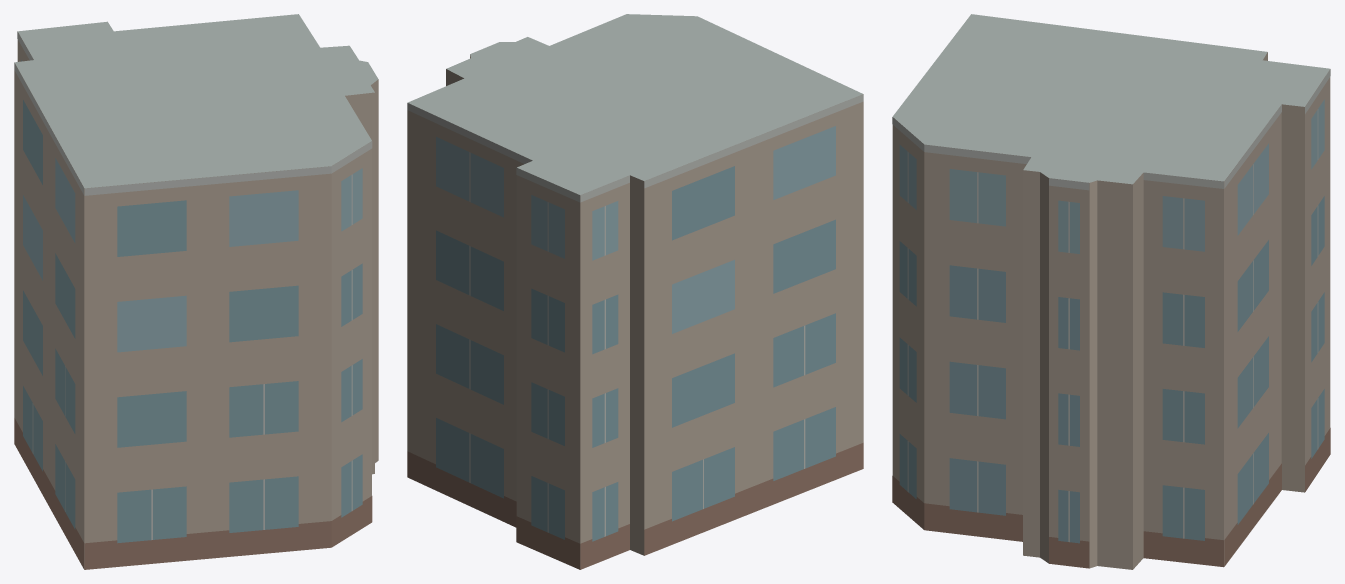
Rendered from survey-upis-33006650.glb.
3 renders of one model, left to right at view 1: azimuth 30°, elevation 25°; view 2: azimuth 150°, elevation 25°; view 3: azimuth 270°, elevation 25°, orthographic. The views are drawn at different scales.
Parts seen in each view (by area): view 1: survey-upis-33006650.tmp; view 2: survey-upis-33006650.tmp; view 3: survey-upis-33006650.tmp.
Boxes of the visible parts, x1=… form: survey-upis-33006650.tmp: x1=14, y1=14, x2=378, y2=569; survey-upis-33006650.tmp: x1=407, y1=14, x2=863, y2=569; survey-upis-33006650.tmp: x1=892, y1=14, x2=1330, y2=569.
Bounding box in the file's own units: 11.75 × 12.4 × 12.77.
